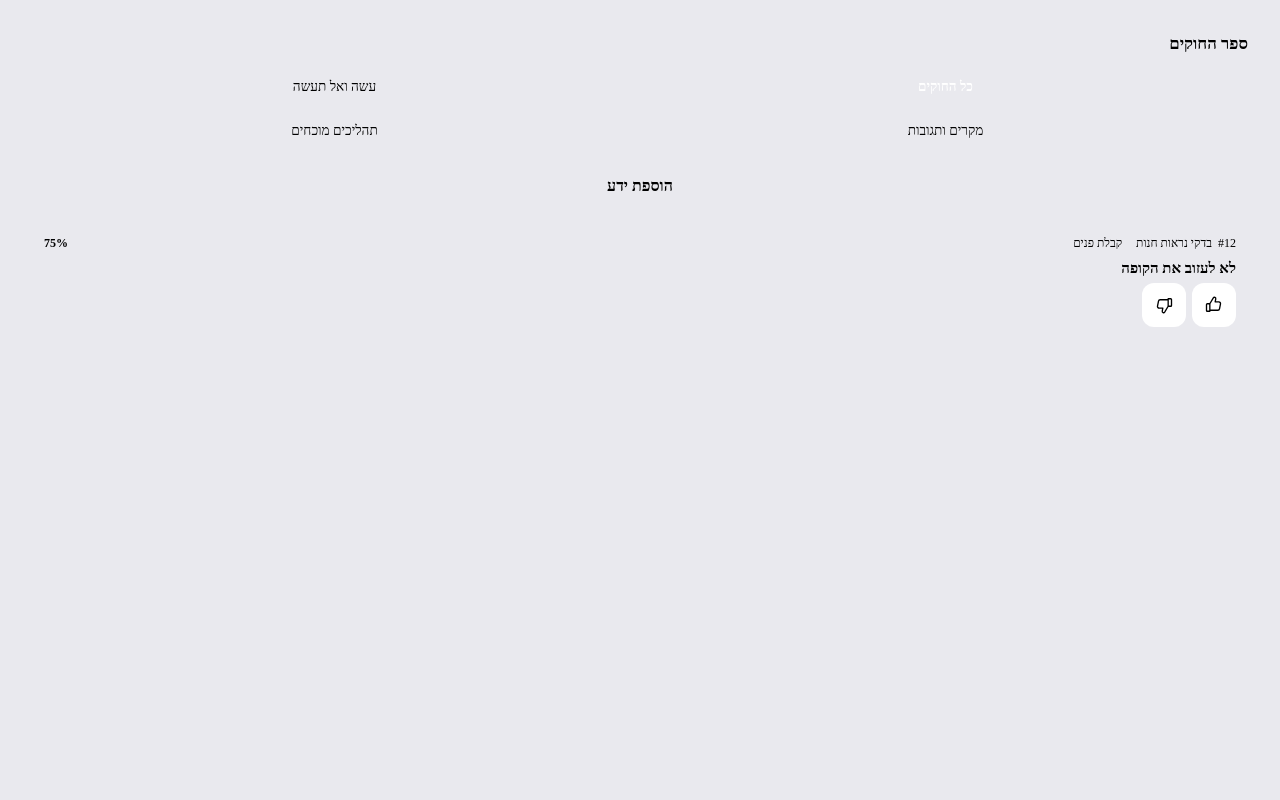
Test case: what the do and don’t lists show › splits them under their own headings rather than mixing them with a badge
Click the tab "עשה ואל תעשה" at (334, 87), box [32,68,637,106]
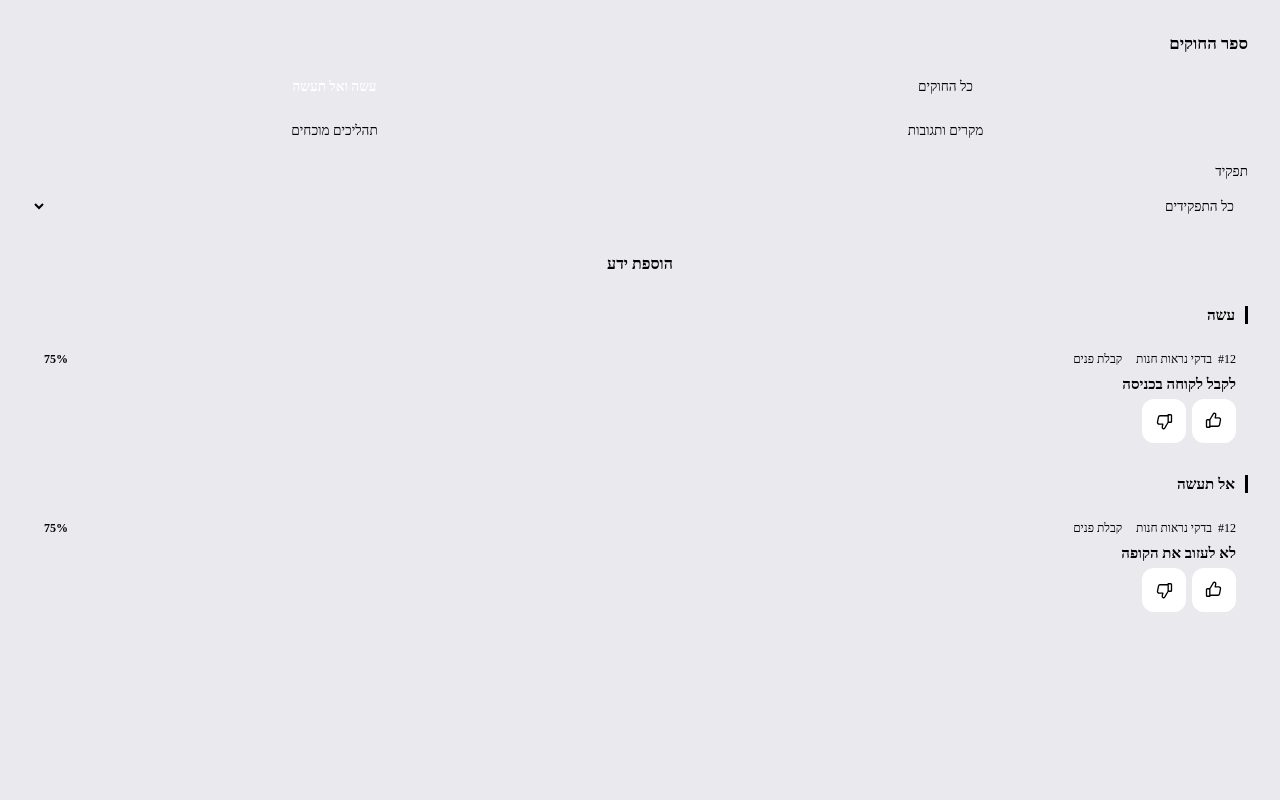
Expected: the text "לא לעזוב את הקופה" is shown, [1121,545,1236,561]
Expected: the text "לקבל לקוחה בכניסה" is shown, [1122,376,1236,392]
